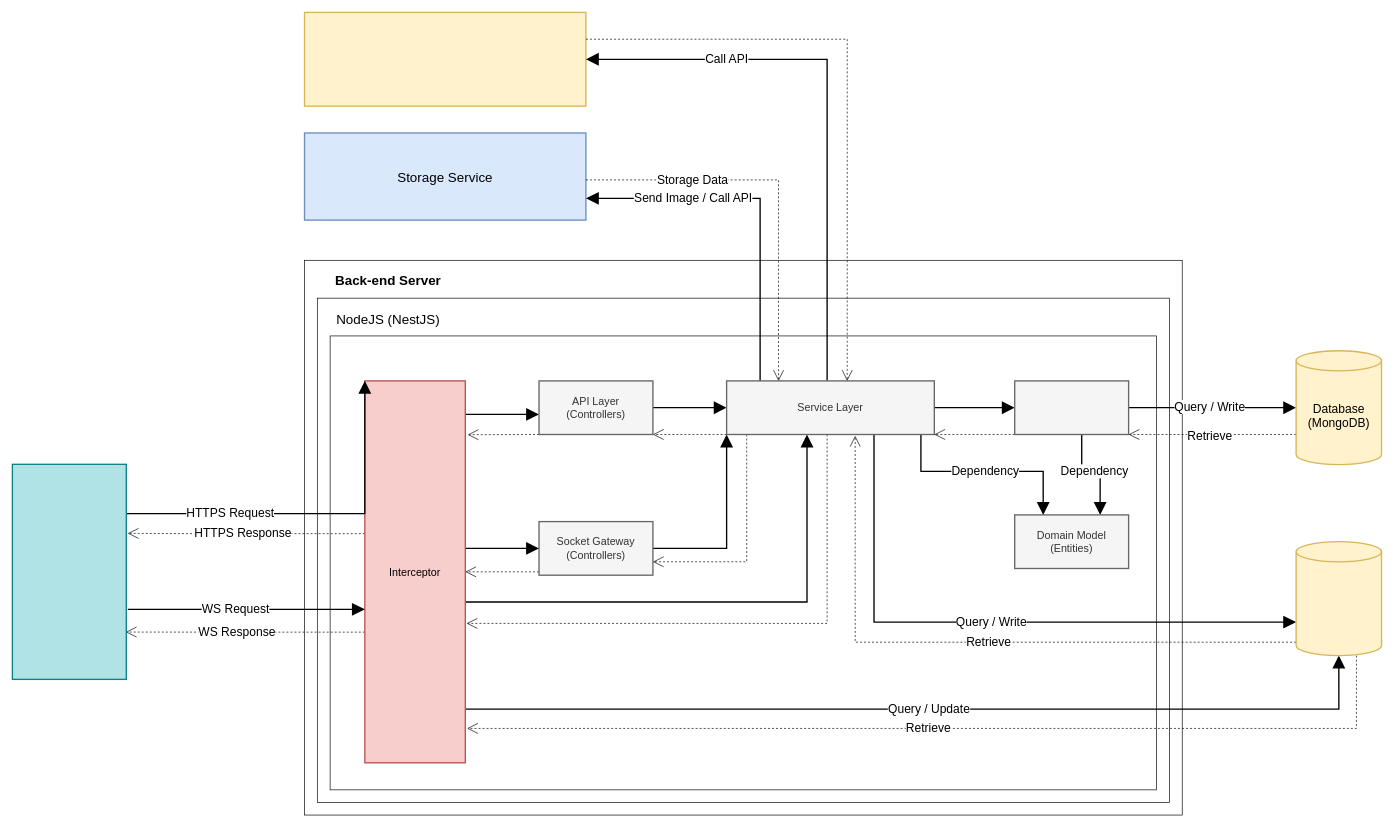
The diagram is 1394 pixels wide and 827 high, and some of its shapes have lost their labels. The shapes that lost their labels are listed below. From the top down, each one's centre as x and y in pixels, then its label:
At point (445, 59): "Firebase (Authentication / Messaging)".
At point (1071, 407): "Repository Layer".
At point (69, 571): "Frontend".
At point (1338, 598): "Cache (Redis)".
